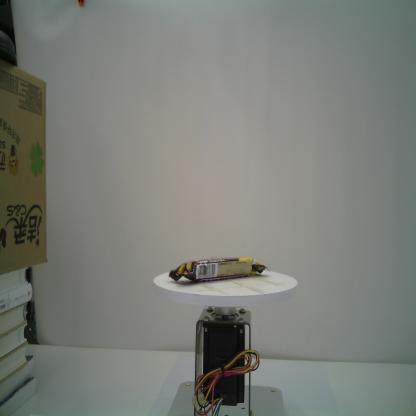Chocolate: (168, 256, 270, 283)
